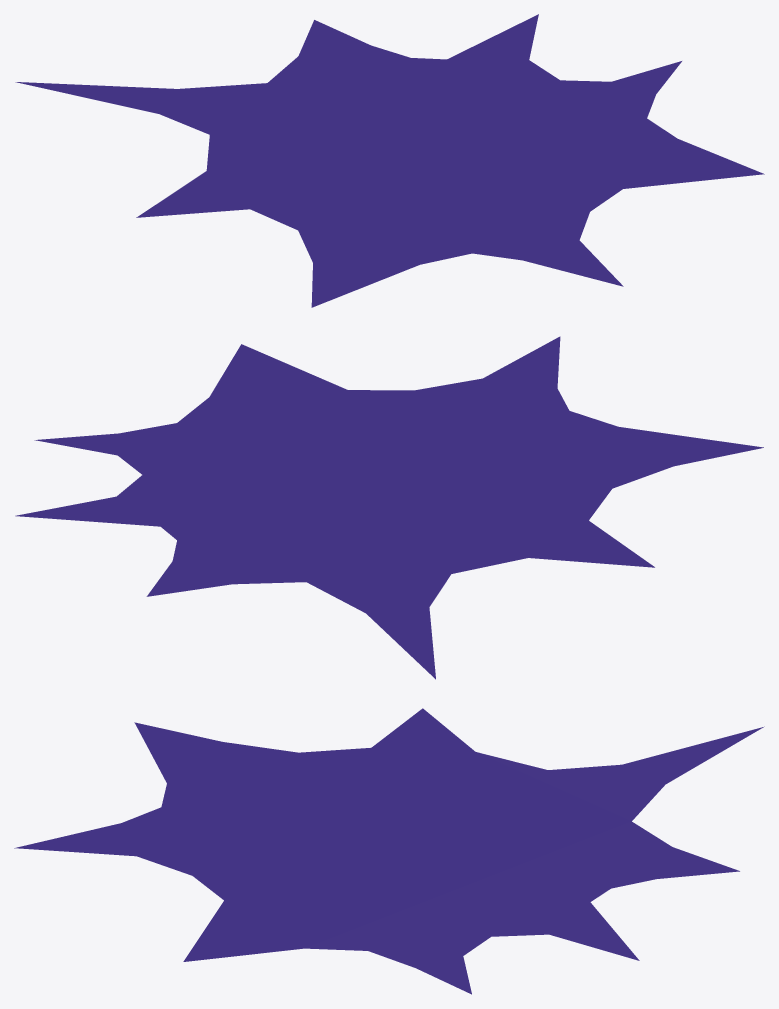
Rendered from RubberBalloon.fbx.
3 renders of one model, top to bottom at view 1: azimuth 30°, elevation 25°; view 2: azimuth 150°, elevation 25°; view 3: azimuth 270°, elevation 25°, orthographic. The views are drawn at different scales.
Visible parts, largest first — view 1: BezierCurve; view 2: BezierCurve; view 3: BezierCurve.
Part boxes in pixels (bbox=[...]): BezierCurve: bbox=[15, 14, 764, 307]; BezierCurve: bbox=[15, 336, 763, 679]; BezierCurve: bbox=[14, 708, 764, 994].
Bounding box in the file's own units: 1871 × 21.23 × 2070.
